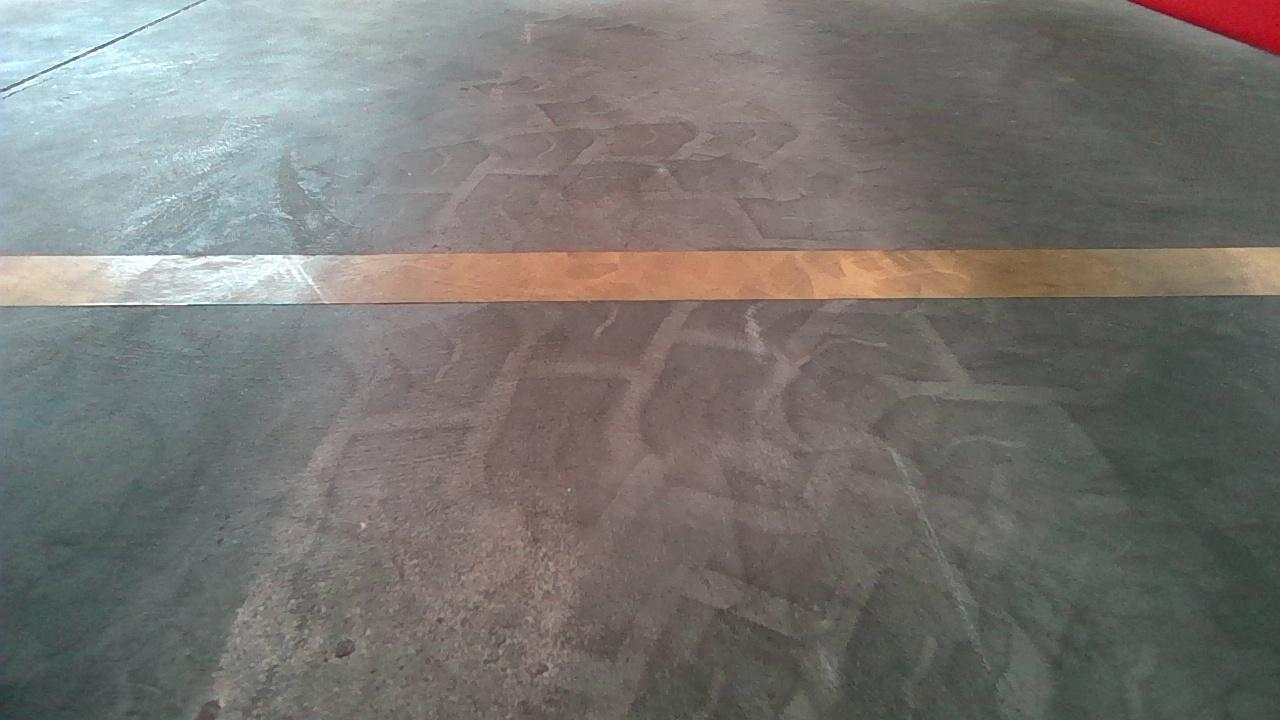yellow_line: (16, 239, 1280, 306)
